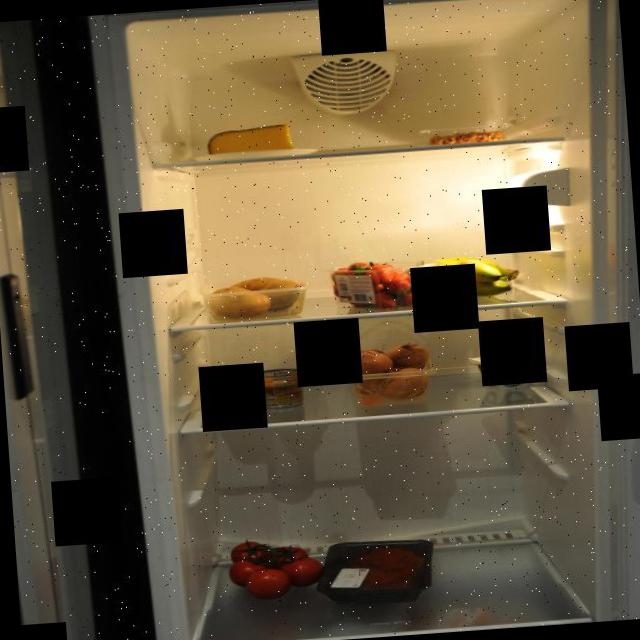Carne vacuno: (336, 544, 426, 590)
Cebolla: (347, 337, 433, 405)
Gambas/Langostinos: (423, 124, 510, 146)
Patata: (203, 275, 310, 320)
Plátano: (428, 250, 526, 301)
Queso: (202, 121, 298, 163)
Tomate: (222, 531, 329, 602)
